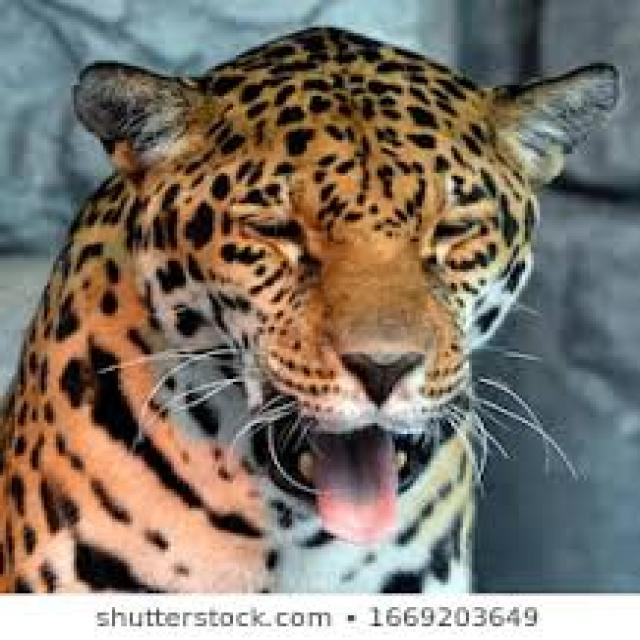Jaguar: (3, 31, 619, 594)
